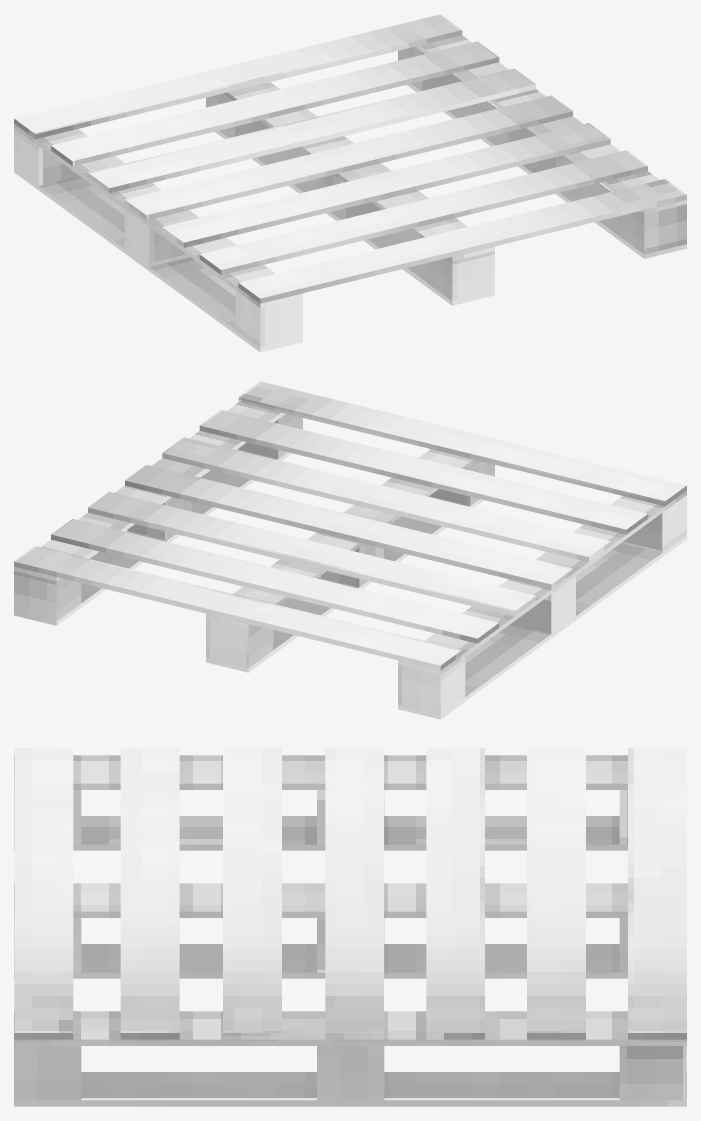
Rendered from WoodenPalletEnglish.glb.
3 views of the same model, one above another, from view 1: azimuth 30°, elevation 25°; view 2: azimuth 150°, elevation 25°; view 3: azimuth 270°, elevation 25° (orthographic). The views are drawn at different scales.
Visible parts, largest first — view 1: WoodenPalletEnglish; view 2: WoodenPalletEnglish; view 3: WoodenPalletEnglish.
Part boxes in pixels (<box>): WoodenPalletEnglish: <box>14,14,686,352</box>; WoodenPalletEnglish: <box>14,381,686,719</box>; WoodenPalletEnglish: <box>14,748,686,1106</box>.
Size of the model in its own units: 1.2 by 0.145 by 1.2.
Materials: 1 (1 with a texture image).
